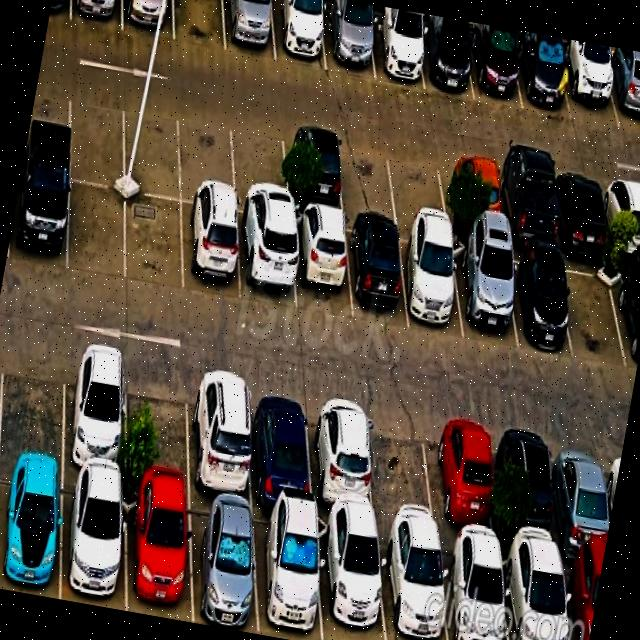empty: (365, 400, 438, 535), (126, 355, 190, 492), (0, 334, 64, 467), (560, 251, 628, 365), (123, 95, 180, 200), (231, 115, 288, 220), (126, 192, 182, 294), (68, 181, 125, 281), (180, 106, 235, 209), (69, 85, 123, 188), (338, 132, 397, 219), (388, 140, 448, 225), (173, 0, 225, 51)
occupied: (188, 494, 258, 634), (124, 483, 192, 622), (253, 506, 322, 640), (430, 409, 496, 546), (308, 389, 375, 523), (61, 471, 125, 611), (62, 343, 125, 480), (0, 462, 63, 599), (189, 367, 252, 503), (317, 516, 385, 640), (249, 378, 312, 511), (500, 420, 560, 554), (552, 429, 610, 561), (378, 530, 447, 640), (451, 238, 517, 348), (398, 227, 463, 338), (503, 246, 571, 352), (439, 537, 508, 640), (346, 217, 408, 325), (292, 209, 351, 319), (500, 547, 569, 640), (8, 167, 69, 272), (181, 203, 240, 301), (494, 159, 558, 249), (236, 214, 295, 311), (283, 124, 343, 212), (442, 150, 502, 237), (558, 45, 619, 128), (552, 167, 609, 252), (515, 34, 571, 119), (468, 26, 522, 108), (417, 22, 473, 99), (368, 13, 424, 88), (271, 0, 326, 70), (323, 5, 374, 77), (560, 555, 603, 640), (223, 0, 275, 61), (602, 174, 640, 256), (602, 52, 640, 132), (614, 259, 640, 371), (122, 0, 174, 39), (70, 0, 122, 30)
